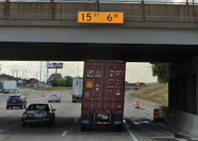1: (80, 11, 86, 21)
5: (84, 11, 93, 23)
6: (104, 11, 113, 23)
overheadsign: (76, 10, 124, 25)
